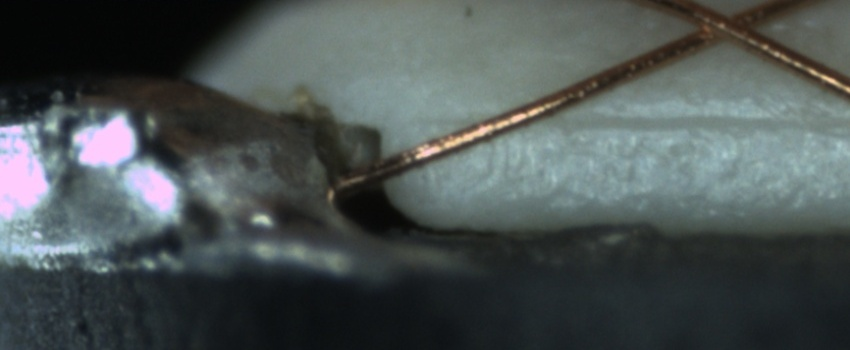CL: (673, 1, 776, 55)
DL: (400, 90, 850, 156)
